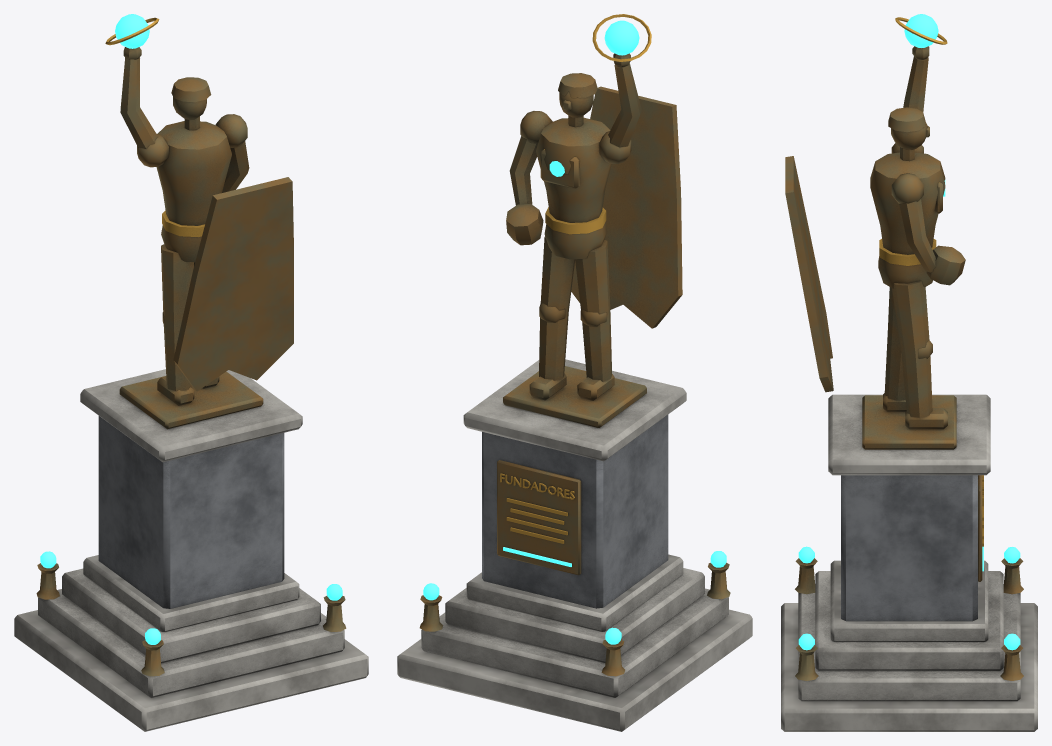
Rendered from monumento_fundadores.fbx.
3 views of the same model, side by side, from view 1: azimuth 30°, elevation 25°; view 2: azimuth 150°, elevation 25°; view 3: azimuth 270°, elevation 25° (orthographic). The views are drawn at different scales.
Parts seen in each view (by area): view 1: monumento_fundadores, monumento_fundadores_astro_neon, monumento_fundadores_neon; view 2: monumento_fundadores, monumento_fundadores_neon, monumento_fundadores_astro_neon; view 3: monumento_fundadores, monumento_fundadores_neon, monumento_fundadores_astro_neon.
Boxes of the visible parts, x1=… form: monumento_fundadores: x1=14, y1=17, x2=368, y2=731; monumento_fundadores_astro_neon: x1=115, y1=14, x2=149, y2=48; monumento_fundadores_neon: x1=40, y1=551, x2=342, y2=644; monumento_fundadores: x1=397, y1=14, x2=752, y2=731; monumento_fundadores_neon: x1=423, y1=161, x2=726, y2=644; monumento_fundadores_astro_neon: x1=604, y1=20, x2=639, y2=55; monumento_fundadores: x1=781, y1=17, x2=1037, y2=731; monumento_fundadores_neon: x1=798, y1=180, x2=1020, y2=650; monumento_fundadores_astro_neon: x1=904, y1=14, x2=938, y2=47.
Bounding box in the file's own units: 3 × 8.23 × 3.
3 materials, 3 textured.
